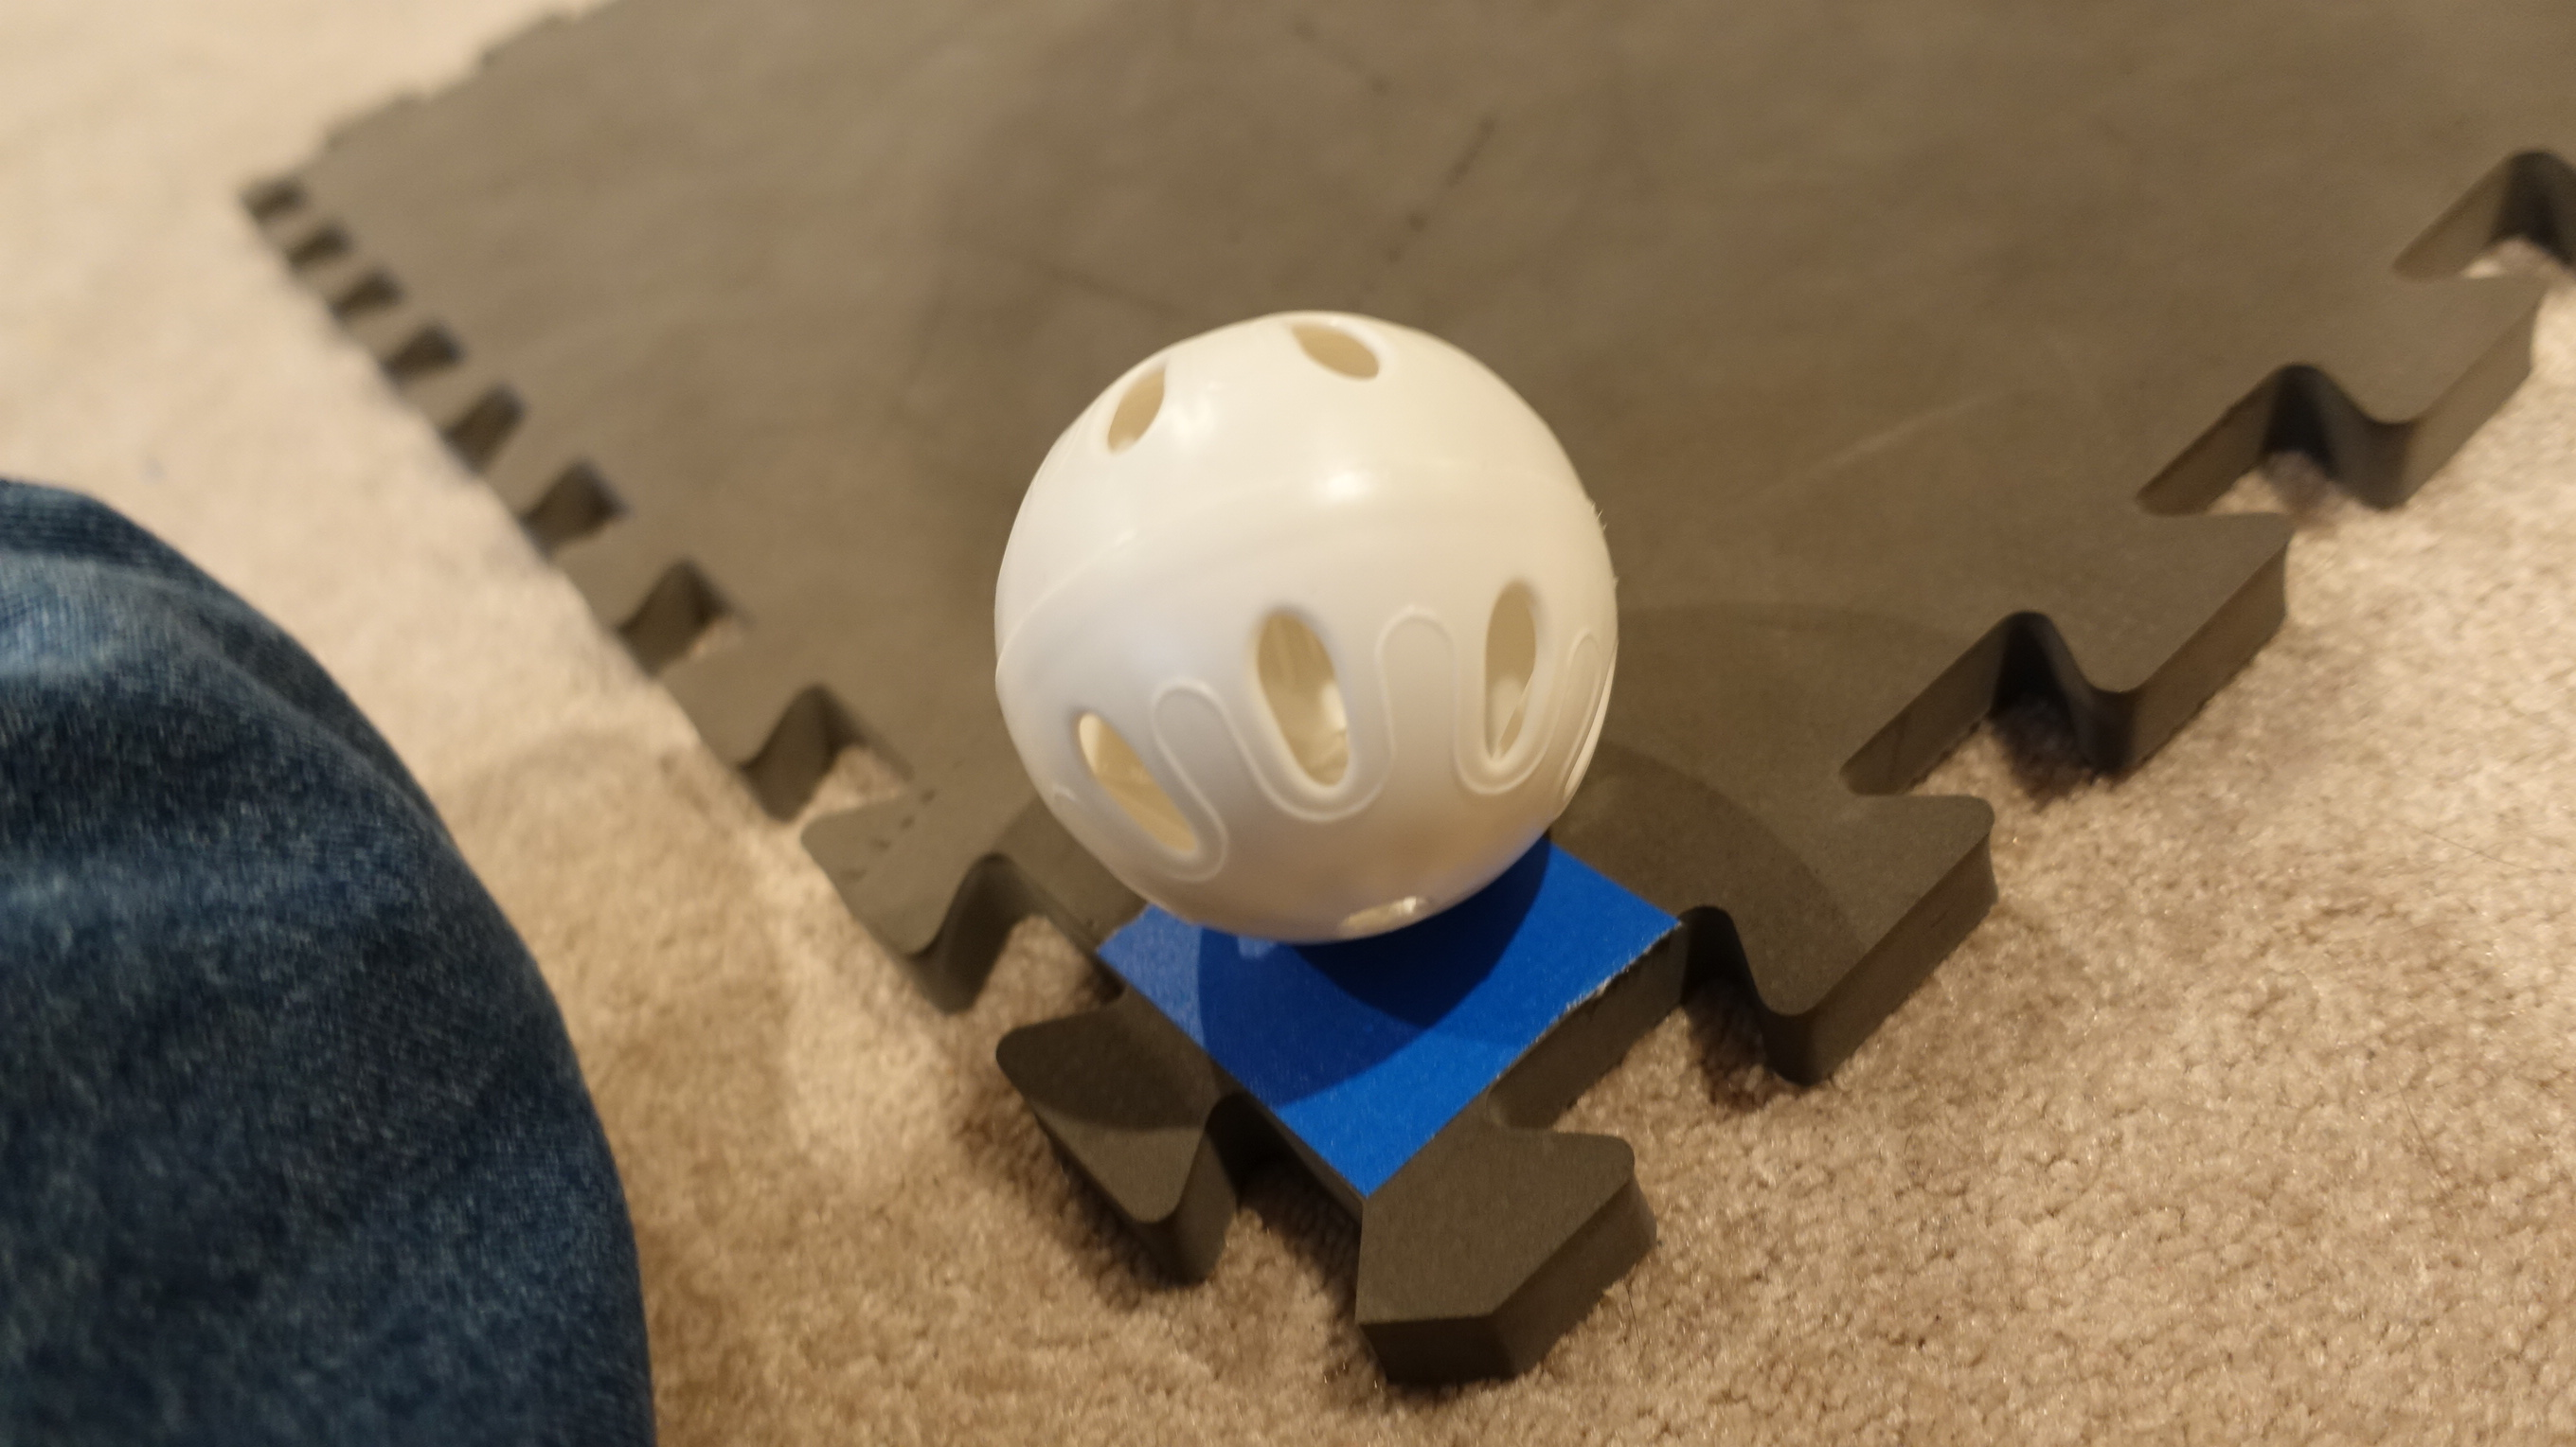silver: (987, 310, 1622, 955)
